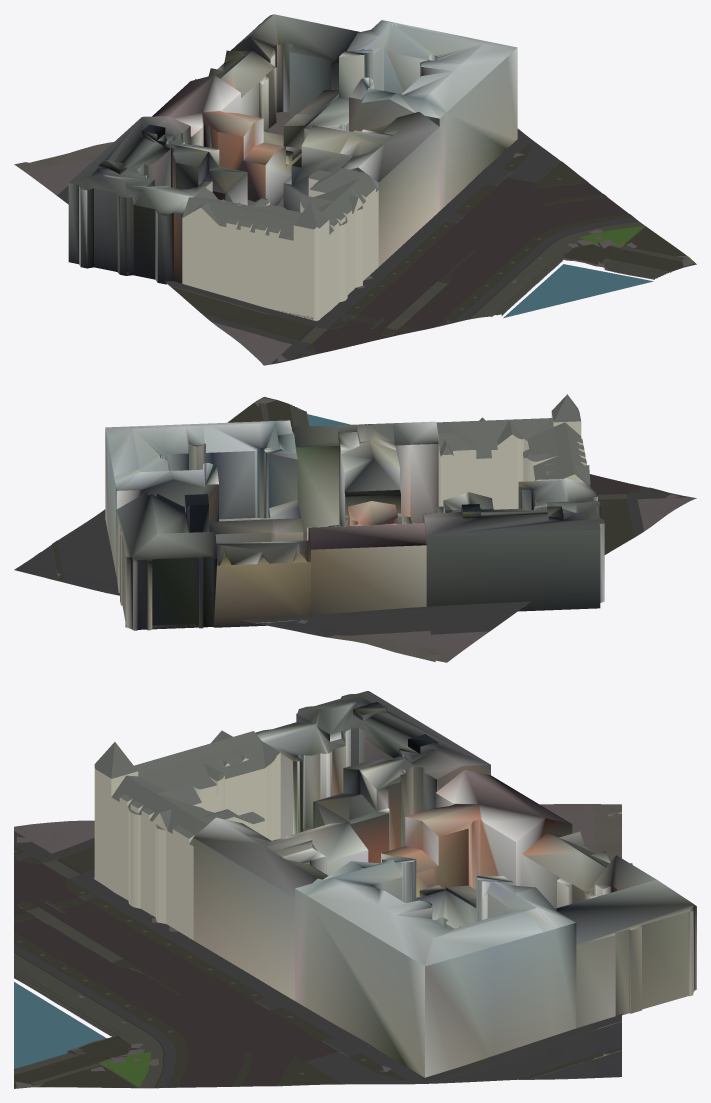
3 renders of one model, top to bottom at view 1: azimuth 30°, elevation 25°; view 2: azimuth 150°, elevation 25°; view 3: azimuth 270°, elevation 25°, orthographic. The views are drawn at different scales.
Parts seen in each view (by area): view 1: c_m11_p06; view 2: c_m11_p06; view 3: c_m11_p06.
Part boxes in pixels (x1,y1,x2,y2): c_m11_p06: (14,14,696,365); c_m11_p06: (14,394,696,662); c_m11_p06: (14,691,696,1088).
Size of the model in its own units: 143 by 34.99 by 144.
